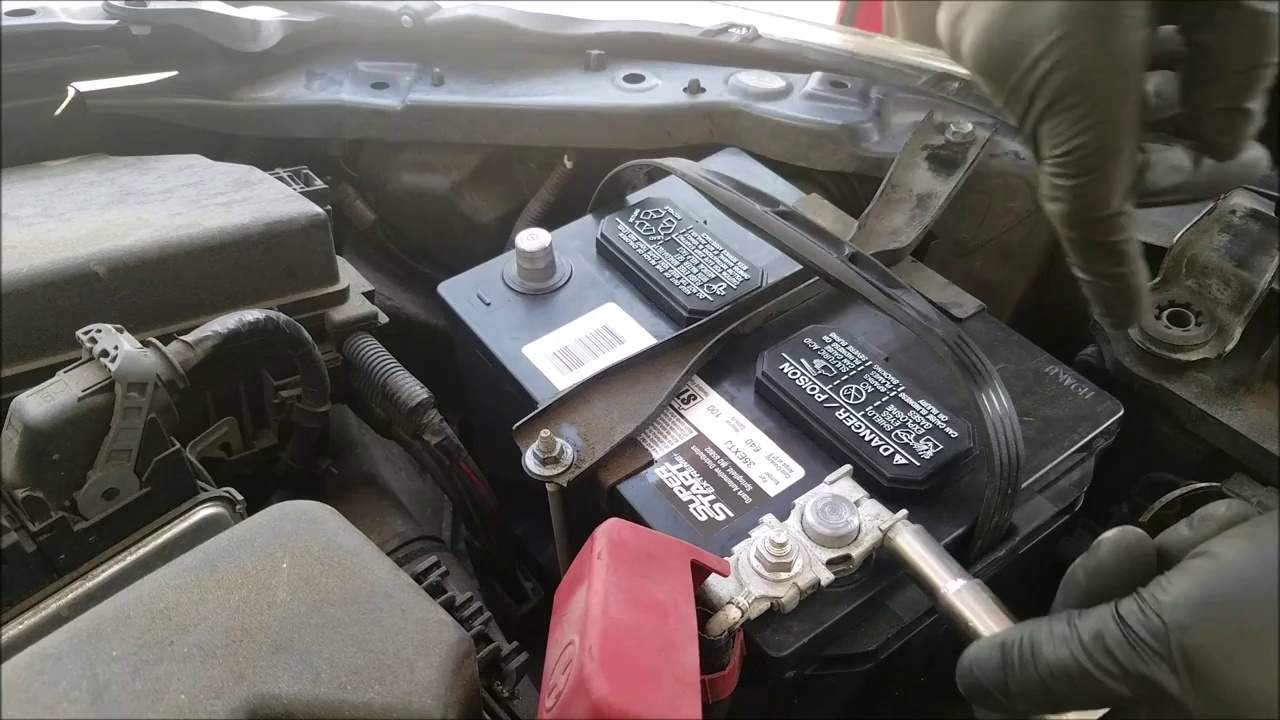battery: (432, 134, 1123, 657)
neg_disconnected: (462, 213, 602, 317)
pos_connected: (531, 458, 884, 674)
